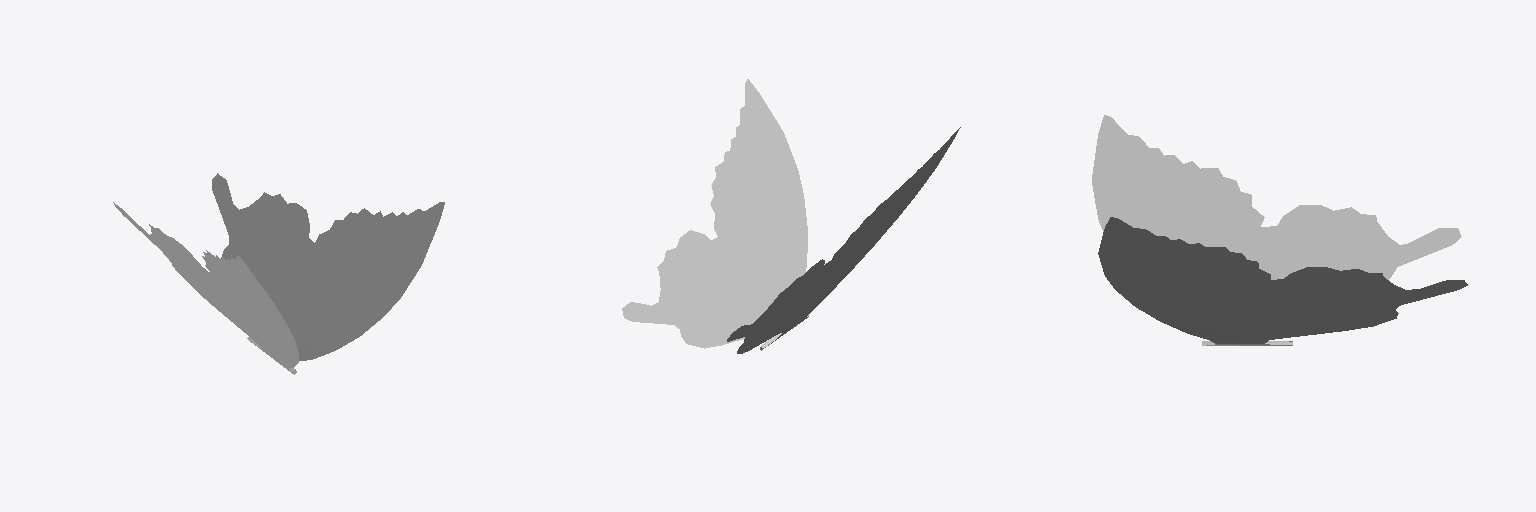
The model's file is mob_2.obj.
The picture shows the model from 3 angles: view 1: azimuth 30°, elevation 25°; view 2: azimuth 150°, elevation 25°; view 3: azimuth 270°, elevation 25°; orthographic projection.
Visible parts, largest first — view 1: Cube; view 2: Cube; view 3: Cube.
Part boxes in pixels (bbox=[...]): Cube: bbox=[113, 173, 444, 374]; Cube: bbox=[622, 79, 960, 353]; Cube: bbox=[1092, 115, 1467, 345].
Bounding box in the file's own units: 1.26 × 1.04 × 1.96.